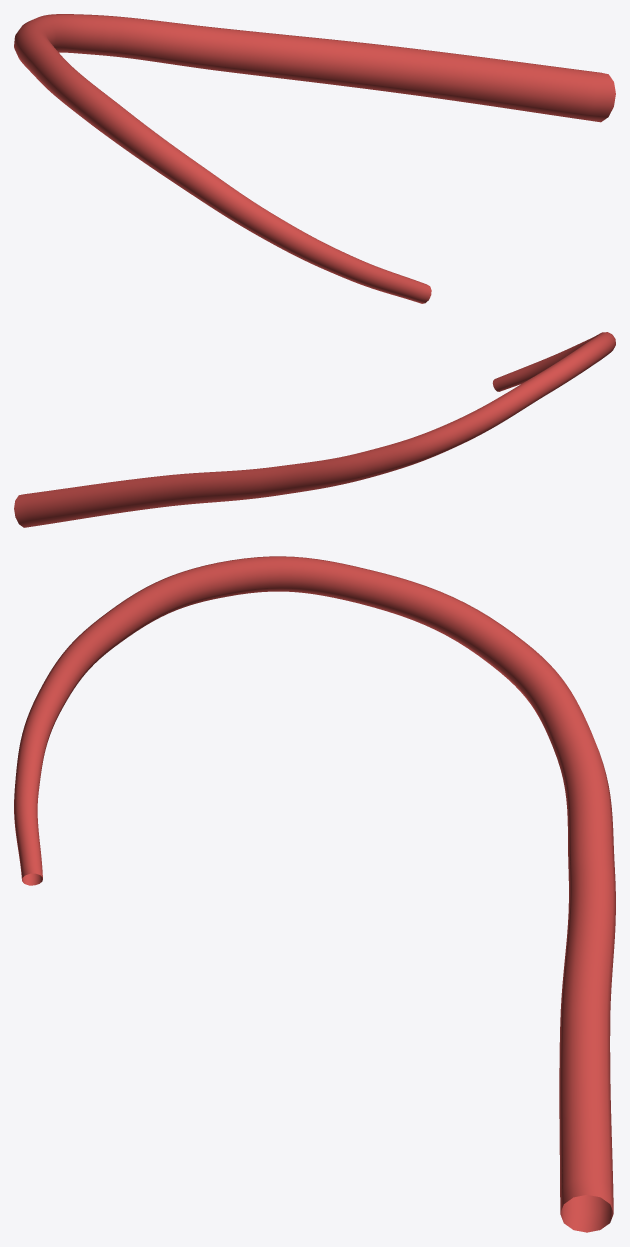
The picture shows the model from 3 angles, top to bottom: view 1: azimuth 30°, elevation 25°; view 2: azimuth 150°, elevation 25°; view 3: azimuth 270°, elevation 25°; orthographic projection. The views are drawn at different scales.
Visible parts, largest first — view 1: 回结肠动脉结肠支; view 2: 回结肠动脉结肠支; view 3: 回结肠动脉结肠支.
Part boxes in pixels (x1,y1,x2,y2): 回结肠动脉结肠支: (14,14,615,303); 回结肠动脉结肠支: (14,332,615,527); 回结肠动脉结肠支: (14,556,615,1232).
Size of the model in its own units: 0.07 by 0.0302 by 0.0496.
